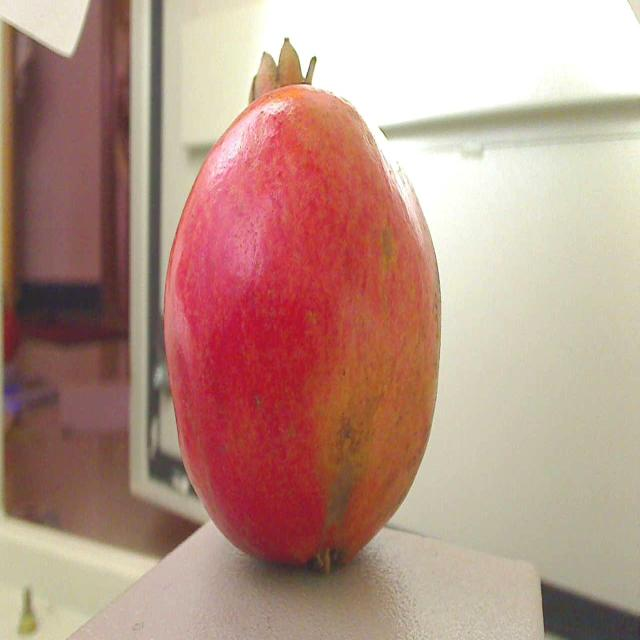pomegranate: (150, 24, 456, 584)
